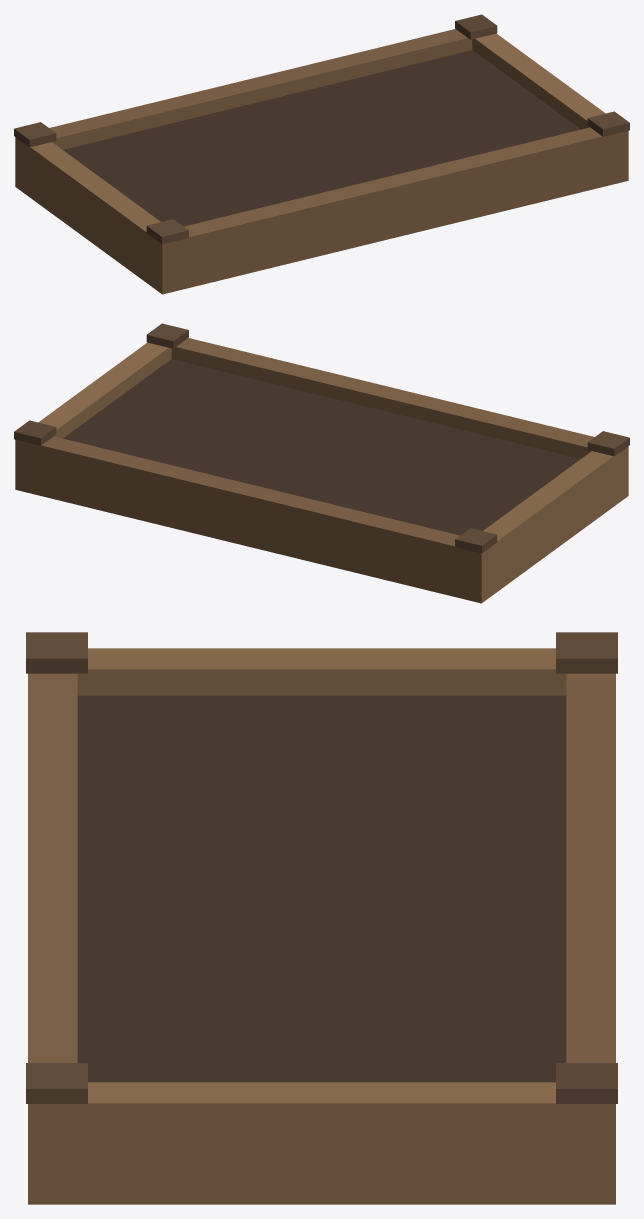
Rendered from cedar_bed.glb.
3 views of the same model, one above another, from view 1: azimuth 30°, elevation 25°; view 2: azimuth 150°, elevation 25°; view 3: azimuth 270°, elevation 25° (orthographic). The views are drawn at different scales.
Parts seen in each view (by area): view 1: cedar_bed; view 2: cedar_bed; view 3: cedar_bed.
Boxes of the visible parts, bbox=[...] form: cedar_bed: bbox=[14, 14, 629, 294]; cedar_bed: bbox=[14, 323, 629, 603]; cedar_bed: bbox=[26, 632, 617, 1204].
Size of the model in its own units: 2.61 by 0.31 by 1.43.
